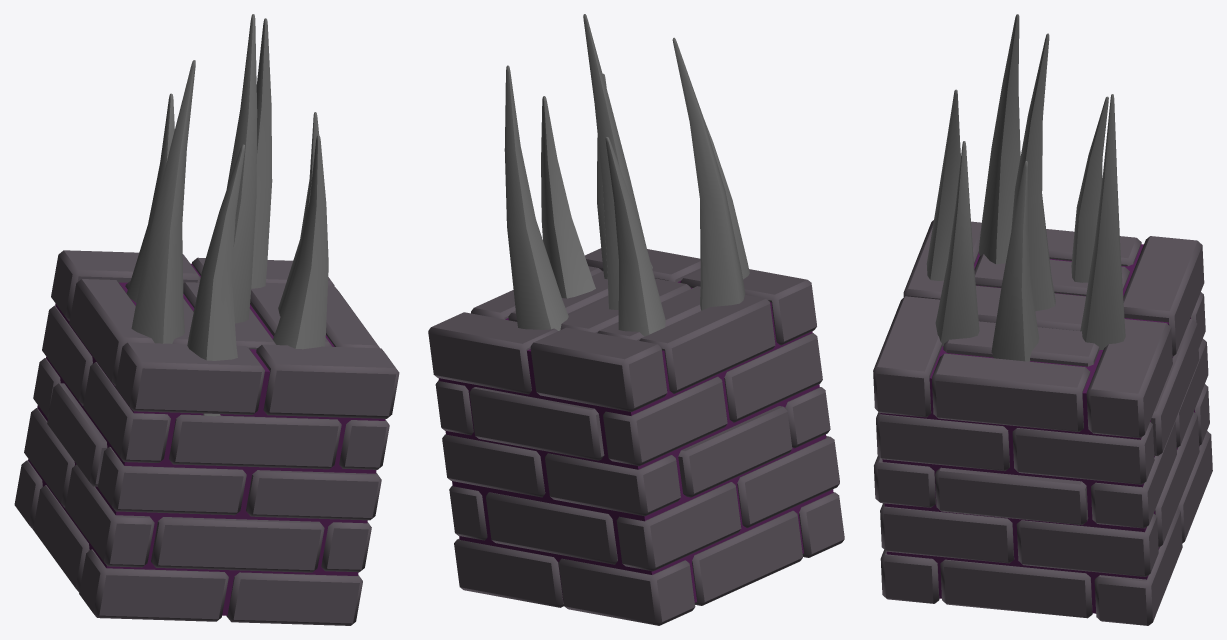
File: Cube_Bricks.005.fbx
3 renders of one model, left to right at view 1: azimuth 30°, elevation 25°; view 2: azimuth 150°, elevation 25°; view 3: azimuth 270°, elevation 25°, orthographic.
Visible parts, largest first — view 1: Cube_Bricks.005; view 2: Cube_Bricks.005; view 3: Cube_Bricks.005.
Part boxes in pixels (box(x1,y1,x2,y2)): Cube_Bricks.005: box(14, 14, 399, 625); Cube_Bricks.005: box(428, 14, 844, 625); Cube_Bricks.005: box(873, 14, 1212, 625).
Size of the model in its own units: 266 by 440 by 243.
